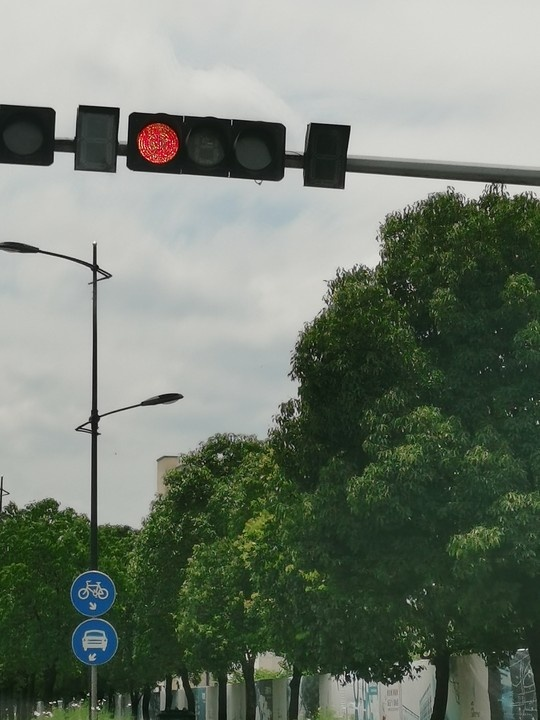light_number: (75, 103, 121, 176), (301, 121, 348, 186)
light_plate: (128, 115, 287, 181)
light_red: (135, 119, 183, 165)
sign_indicater: (70, 617, 120, 666), (70, 570, 117, 617)
